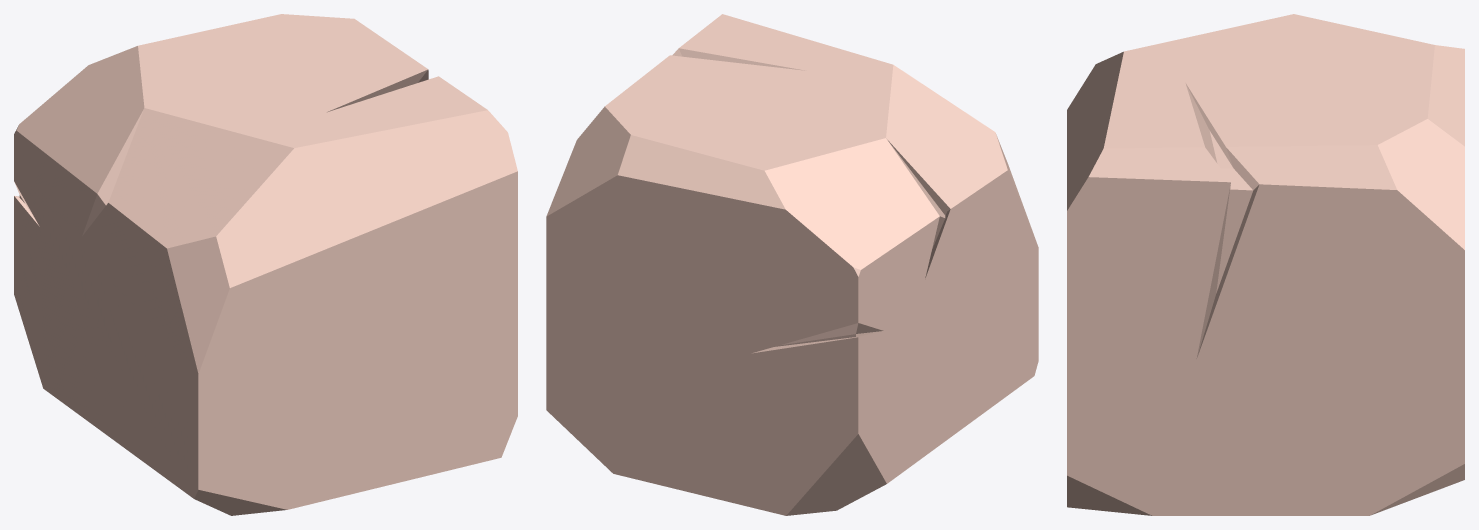
Rendered from Stone 7.fbx.
The picture shows the model from 3 angles, left to right: view 1: azimuth 30°, elevation 25°; view 2: azimuth 150°, elevation 25°; view 3: azimuth 270°, elevation 25°; orthographic projection. The views are drawn at different scales.
Visible parts, largest first — view 1: Stone 7; view 2: Stone 7; view 3: Stone 7.
Part boxes in pixels (x1,y1,x2,y2): Stone 7: (14,14,517,515); Stone 7: (546,14,1038,515); Stone 7: (1067,14,1464,515).
Bounding box in the file's own units: 200 × 200 × 200.
